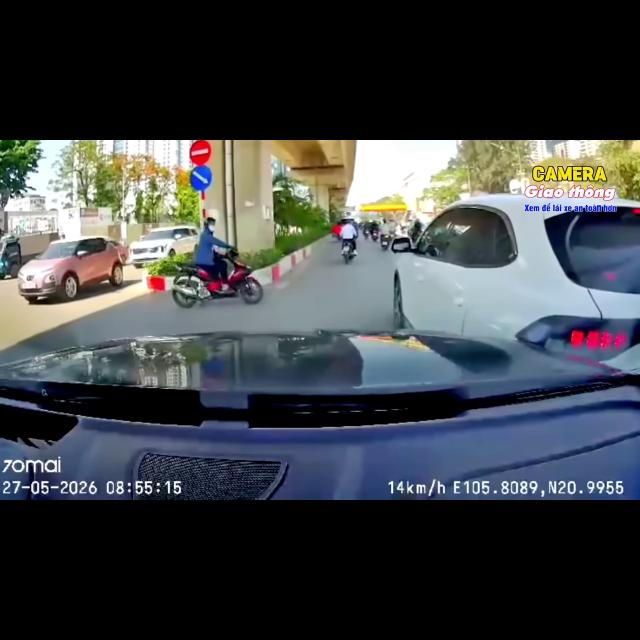car: (0, 331, 639, 499), (392, 194, 639, 348), (18, 236, 123, 303), (129, 226, 199, 267), (1, 234, 23, 280), (109, 240, 129, 264)
motorcycle: (171, 251, 263, 308), (342, 242, 354, 264), (381, 235, 391, 250), (371, 230, 378, 241), (363, 230, 369, 239)
